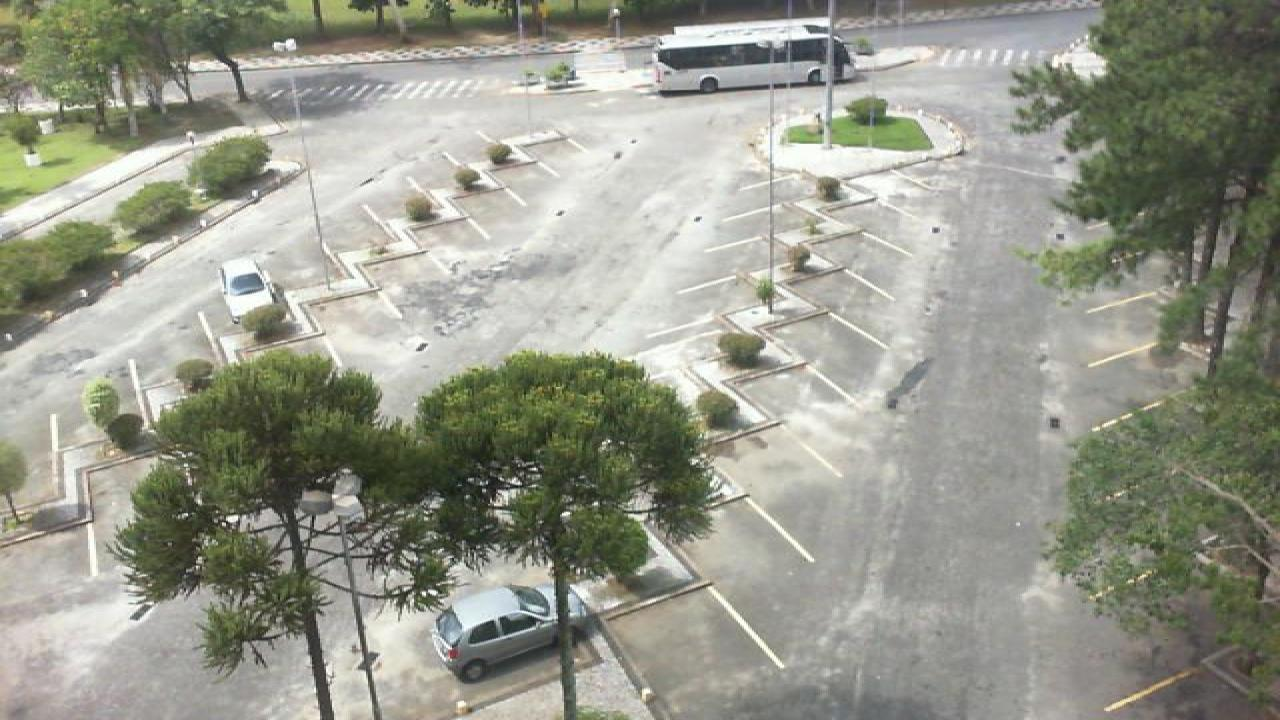Car: (428, 583, 594, 683), (218, 258, 288, 325)
